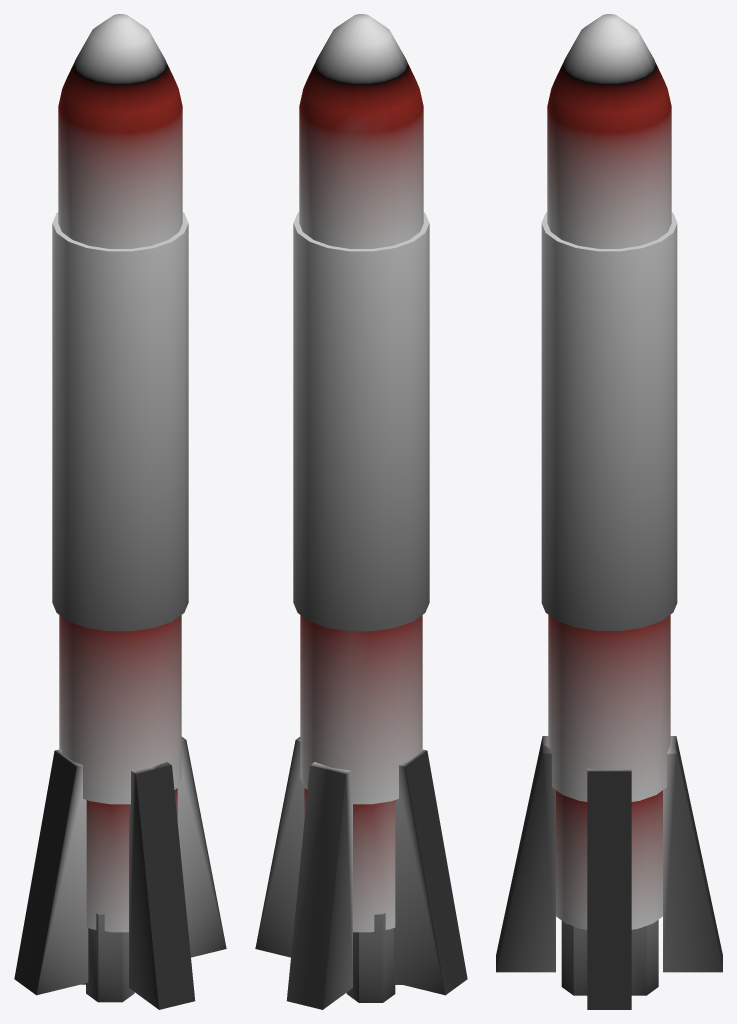
Rendered from rocket.fbx.
3 views of the same model, side by side, from view 1: azimuth 30°, elevation 25°; view 2: azimuth 150°, elevation 25°; view 3: azimuth 270°, elevation 25° (orthographic).
Parts seen in each view (by area): view 1: Cylinder.003; view 2: Cylinder.003; view 3: Cylinder.003.
Part boxes in pixels (x1,y1,x2,y2): Cylinder.003: [14, 14, 226, 1009]; Cylinder.003: [255, 14, 467, 1009]; Cylinder.003: [496, 14, 722, 1009].
Bounding box in the file's own units: 383 × 1852 × 396.
